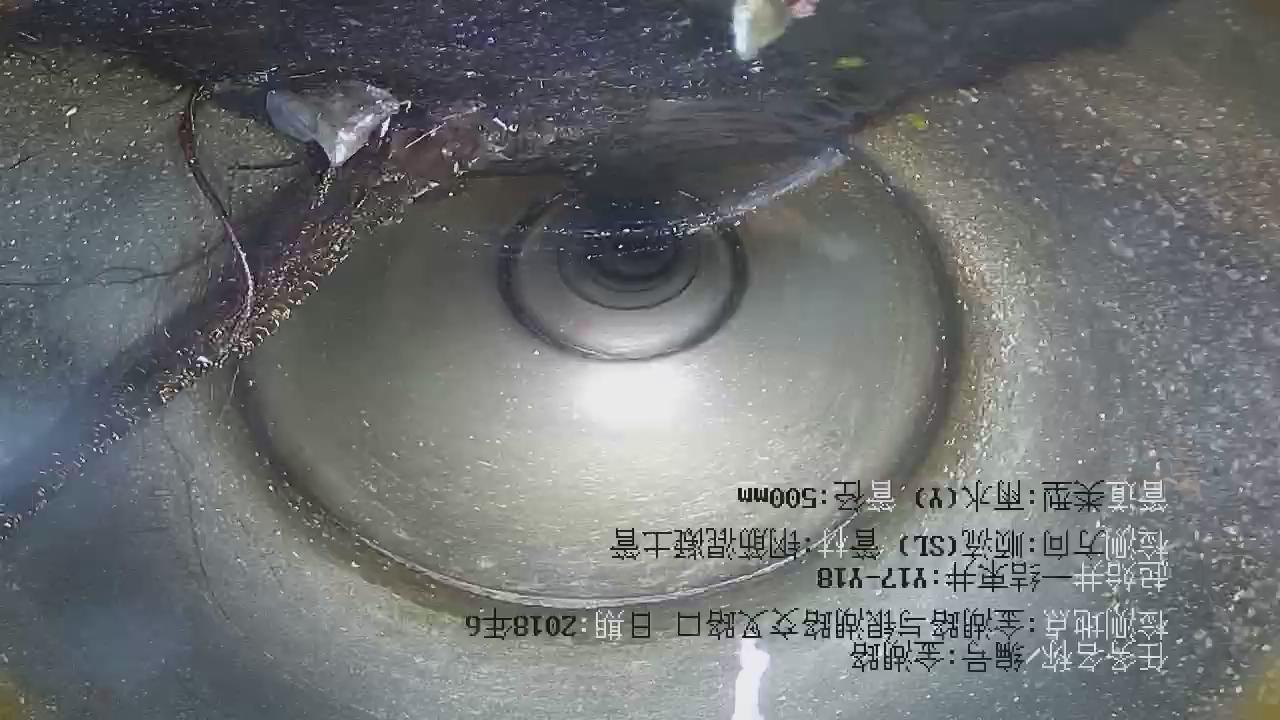CKTJ: (258, 448, 923, 618)
SG: (1, 97, 553, 539)
SL: (411, 115, 880, 303)
